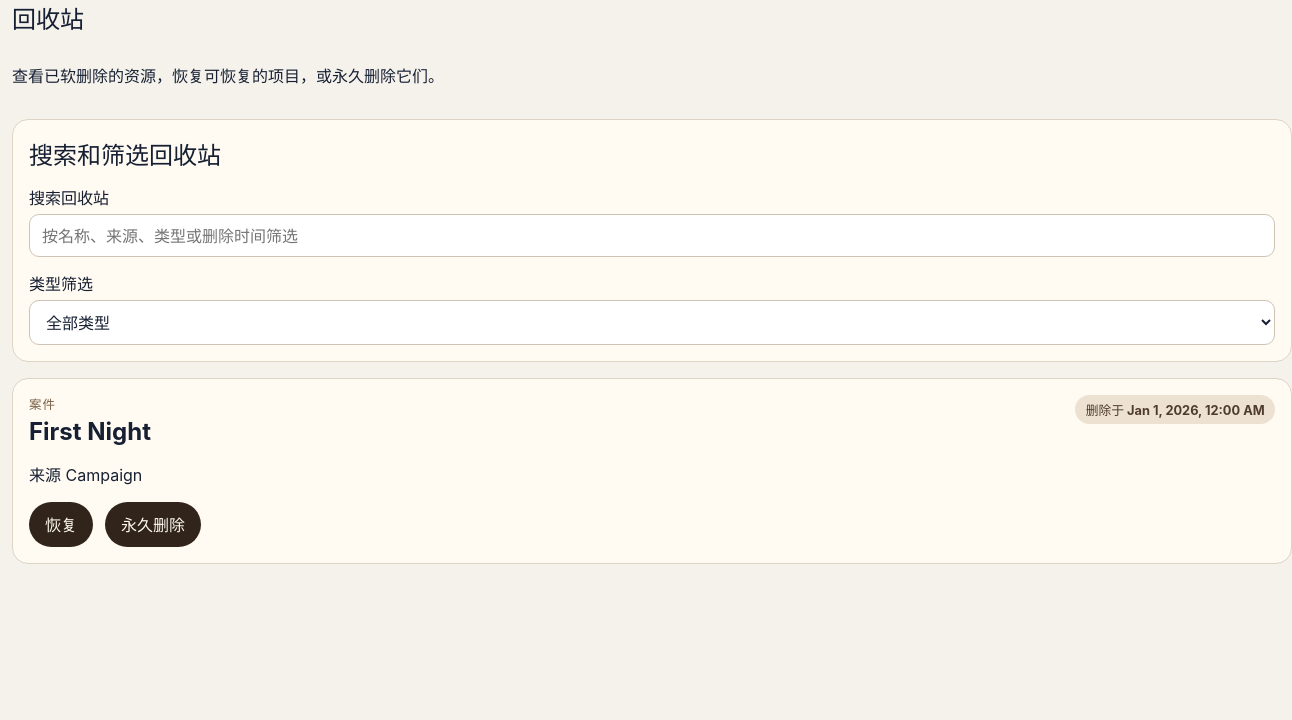
Test: TrashPage › restores soft-deleted cases
Expected: the element "First Night" is shown, [12, 378, 1291, 564]
Click the button "恢复".
click(61, 524)  # box [29, 502, 93, 547]
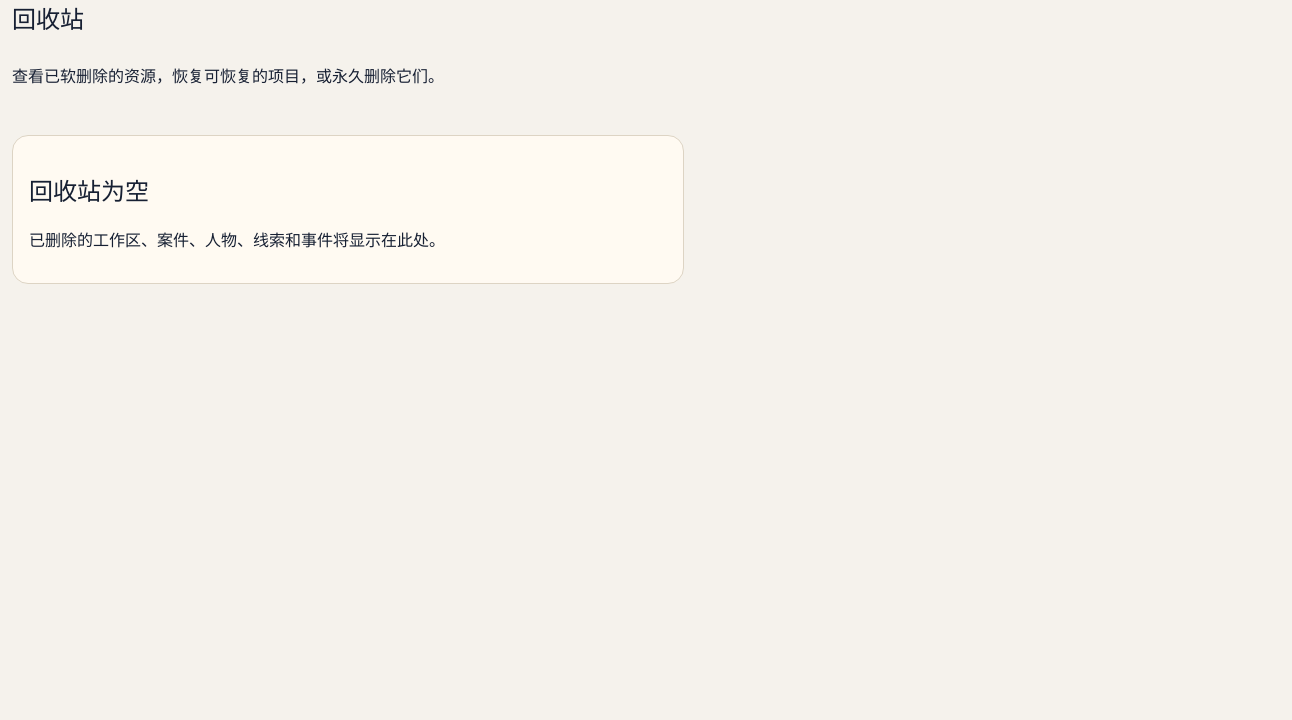
Now the heading "回收站为空" is shown, box [29, 177, 149, 206]
